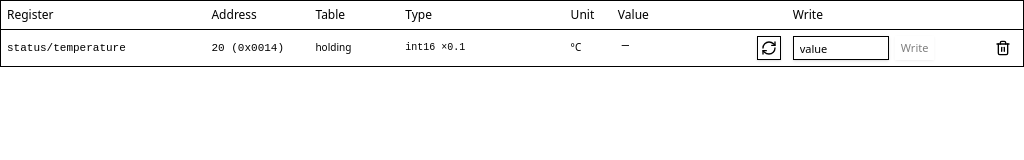
Test: RegisterTable rows › rejects an out-of-range write before it can be sent
Type "99999" into the field named "New value for status/temperature" at (841, 48), box [793,36,889,60]
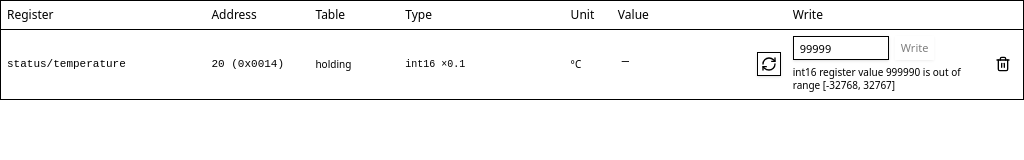
Expected: the button "Write" is disabled, [895,36,934,60]
Result: the message shows "out of range" at [793,65,961,92]
